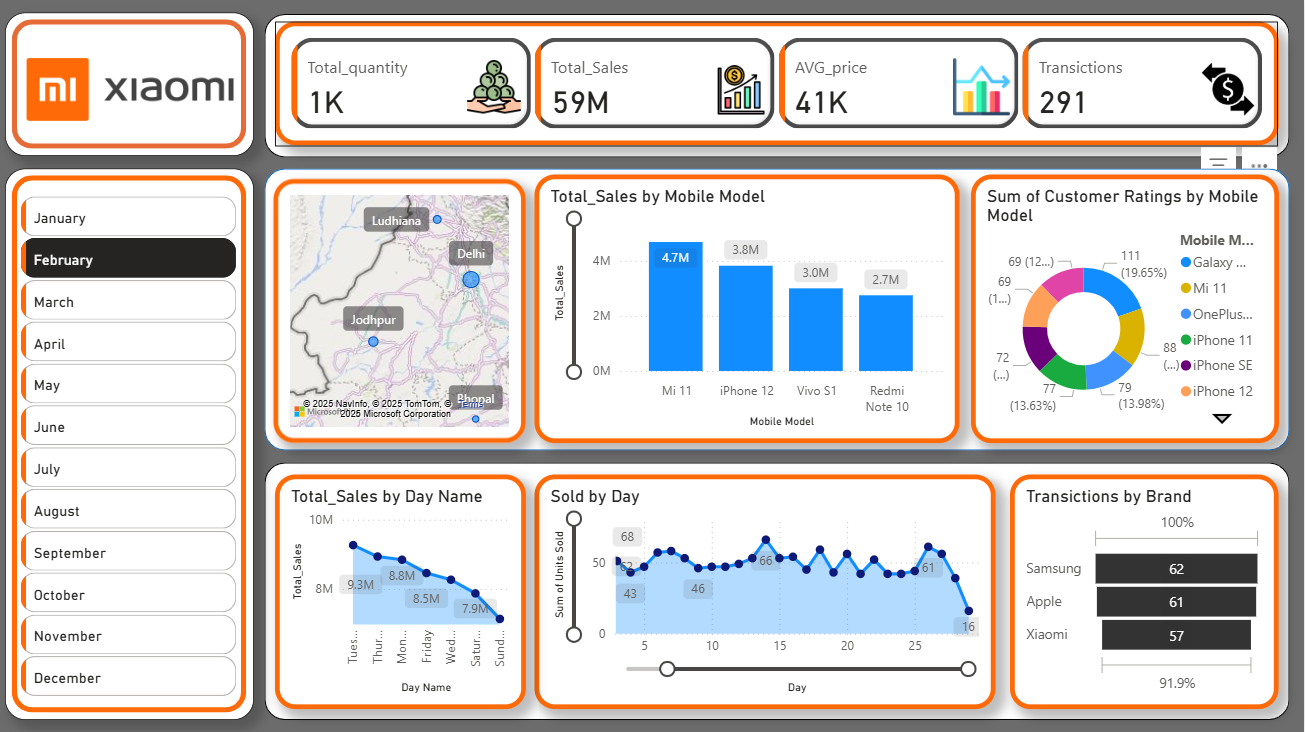

The dashboard page shown, as its layout file describes it:
{"tool":"powerbi","page":{"name":"Page 1","canvas":[1280,720],"ordinal":0},"visuals":[{"type":"shape","box":[260.4,453.7,1004.9,252.4],"z":1000},{"type":"shape","box":[6.1,13.6,243.8,140.8],"z":2000},{"type":"image","box":[19.7,0,218,177.2],"z":3000},{"type":"shape","box":[6.1,166.6,243.8,540.6],"z":4000},{"type":"advancedSlicerVisual","fields":{"Values":["Sheet1.Date.Variation.Date Hierarchy.Month"]},"box":[16.7,187.8,221.1,508.8],"z":5000},{"type":"shape","box":[260.4,14.4,1004.9,140.6],"z":6000},{"type":"cardVisual","fields":{"Data":["Sheet1.Total_quantity","Sheet1.Total_Sales","Sheet1.AVG_price","Sheet1.Transictions"]},"box":[270,22.4,984.2,121.4],"z":7000},{"type":"shape","box":[260.4,166.2,1004.9,276.4],"z":8000},{"type":"map","fields":{"Category":["Sheet1.City"],"Size":["Sheet1.Total_Sales"]},"box":[268.4,175.7,247.6,260.4],"z":9000},{"type":"lineChart","title":"Sold by Day","fields":{"Y":["Sum(Sheet1.Units Sold)"],"Category":["Sheet1.Date.Variation.Date Hierarchy.Day"]},"box":[525.6,466.5,452.1,230.1],"z":10000},{"type":"columnChart","fields":{"Category":["Sheet1.Mobile Model"],"Y":["Sheet1.Total_Sales"]},"box":[525.6,172.5,417,263.6],"z":11000},{"type":"donutChart","fields":{"Y":["Sum(Sheet1.Customer Ratings)"],"Category":["Sheet1.Mobile Model"]},"box":[952.2,172.5,302,263.6],"z":12000},{"type":"funnel","fields":{"Y":["Sheet1.Transictions"],"Category":["Sheet1.Brand"]},"box":[990.6,466.5,263.6,230.1],"z":13000},{"type":"stackedAreaChart","fields":{"Category":["Sheet1.Day Name"],"Y":["Sheet1.Total_Sales"]},"box":[270,466.5,246,230.1],"z":14000}]}

Visuals, with their boxes in screenshot pixels (x1, y1, x2, y2), scaled from the page's 1280x720 canvas onto the 1305x732 screenshot:
shape: left=265, top=461, right=1290, bottom=718
shape: left=6, top=14, right=255, bottom=157
image: left=20, top=0, right=242, bottom=180
shape: left=6, top=169, right=255, bottom=719
advancedSlicerVisual - Sheet1.Date.Variation.Date Hierarchy.Month: left=17, top=191, right=242, bottom=708
shape: left=265, top=15, right=1290, bottom=158
cardVisual - Sheet1.Total_quantity x Sheet1.Total_Sales: left=275, top=23, right=1279, bottom=146
shape: left=265, top=169, right=1290, bottom=450
map - Sheet1.City x Sheet1.Total_Sales: left=274, top=179, right=526, bottom=443
"Sold by Day" lineChart: left=536, top=474, right=997, bottom=708
columnChart - Sheet1.Mobile Model x Sheet1.Total_Sales: left=536, top=175, right=961, bottom=443
donutChart - Sum(Sheet1.Customer Ratings) x Sheet1.Mobile Model: left=971, top=175, right=1279, bottom=443
funnel - Sheet1.Transictions x Sheet1.Brand: left=1010, top=474, right=1279, bottom=708
stackedAreaChart - Sheet1.Day Name x Sheet1.Total_Sales: left=275, top=474, right=526, bottom=708
